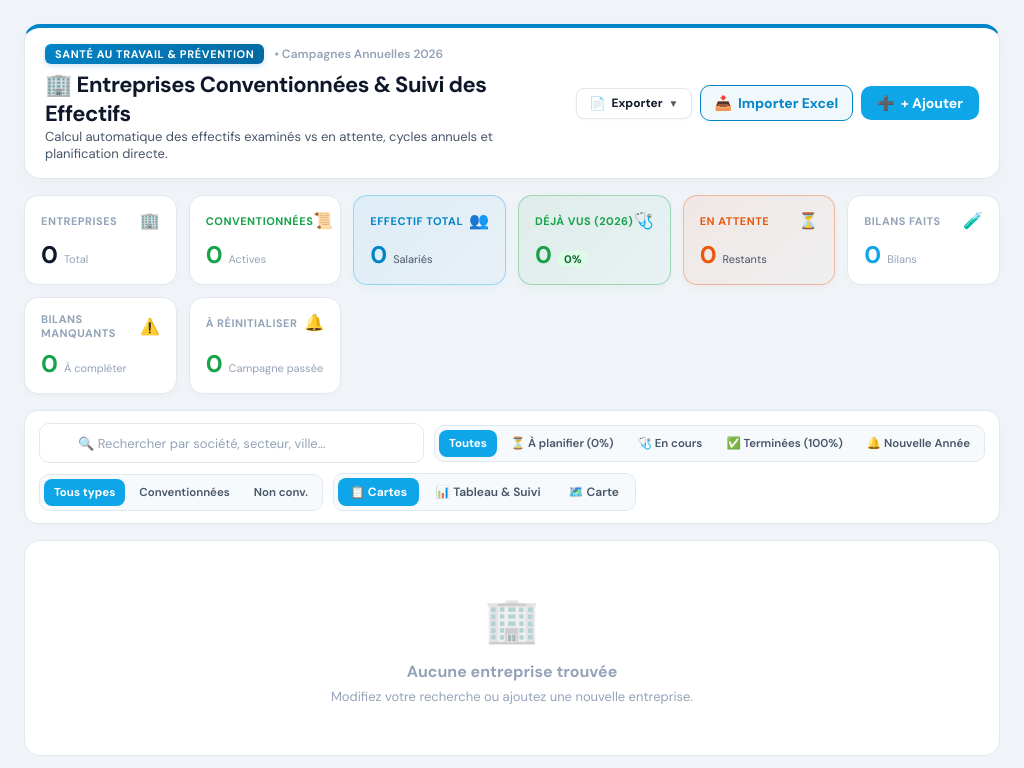
Scenario: Entreprises page — liste › opens excel import modal on import button click
Click the text "Importer Excel".
click(788, 103)  # box [738,94,838,112]
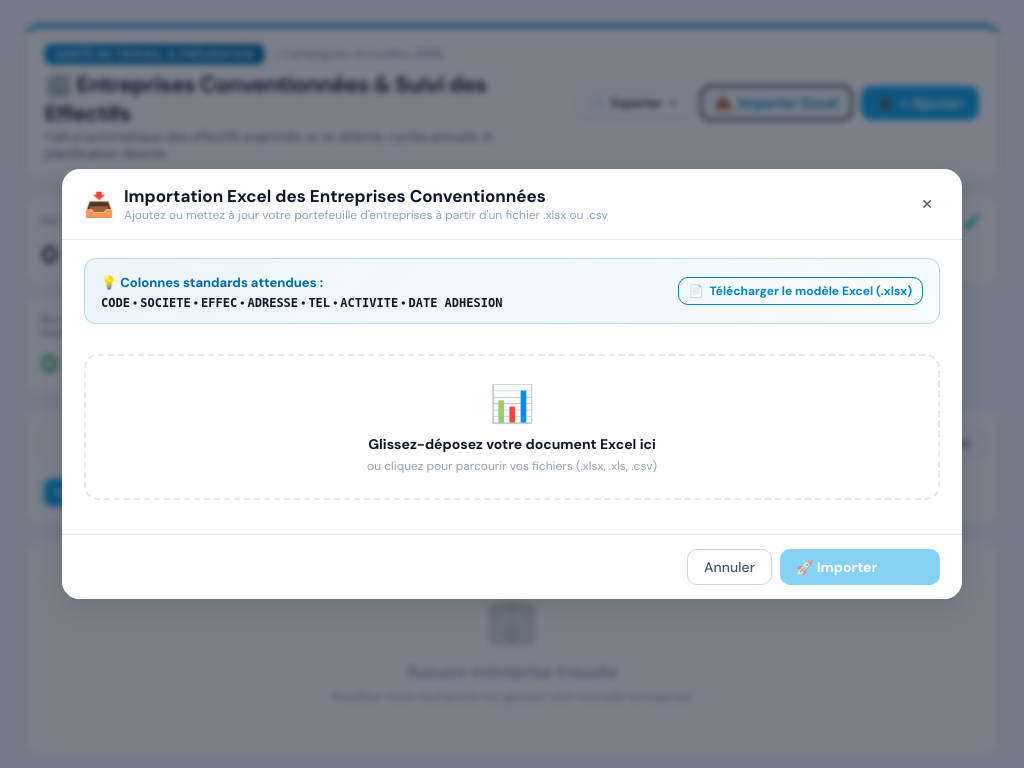
Expected: the heading "Importation Excel des Entreprises Conventionnées" is shown, [124,185,608,207]
Expected: the text "Télécharger le modèle Excel (.xlsx)" is shown, [710,283,912,299]
